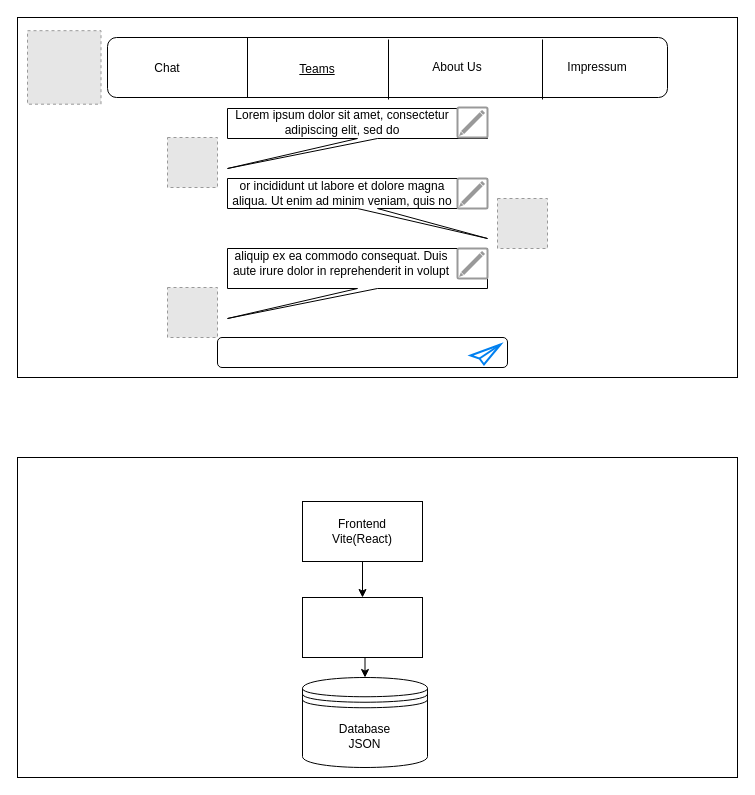
Image size: 755x795. Some labels were removed from this diagram. Grey dashed boxes stand in for pictures. The box of each missing label's shape, as (x1, y1, x2, y2) in pixels:
Backend ExpressJS: (302, 596, 422, 658)
Type for Message!: (216, 336, 508, 368)
